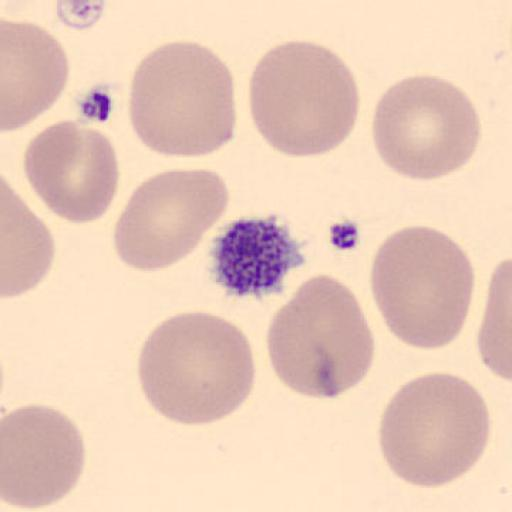Platelet: (206, 210, 310, 301)
RBC: (265, 272, 376, 402), (136, 309, 258, 427), (247, 38, 362, 158), (369, 224, 476, 350), (126, 40, 238, 160), (378, 372, 492, 488), (370, 72, 482, 182), (112, 168, 230, 272), (22, 119, 120, 225), (2, 402, 88, 509), (2, 18, 71, 134), (1, 181, 57, 300), (476, 254, 512, 385)
